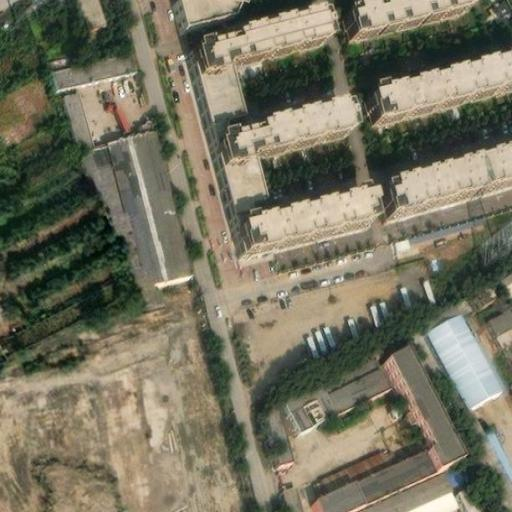building: (80, 123, 190, 289), (186, 63, 273, 225), (382, 342, 458, 466), (366, 51, 512, 115), (377, 142, 512, 211), (178, 11, 319, 74), (226, 192, 366, 255), (206, 101, 339, 163), (426, 304, 504, 402), (310, 449, 431, 512), (337, 468, 463, 512), (46, 41, 134, 87), (316, 443, 393, 492), (327, 362, 390, 408), (476, 423, 512, 500), (286, 376, 336, 425), (263, 397, 294, 458), (66, 81, 93, 142), (490, 298, 512, 357), (455, 480, 486, 512), (280, 479, 308, 512), (447, 460, 470, 481), (129, 280, 156, 293)
